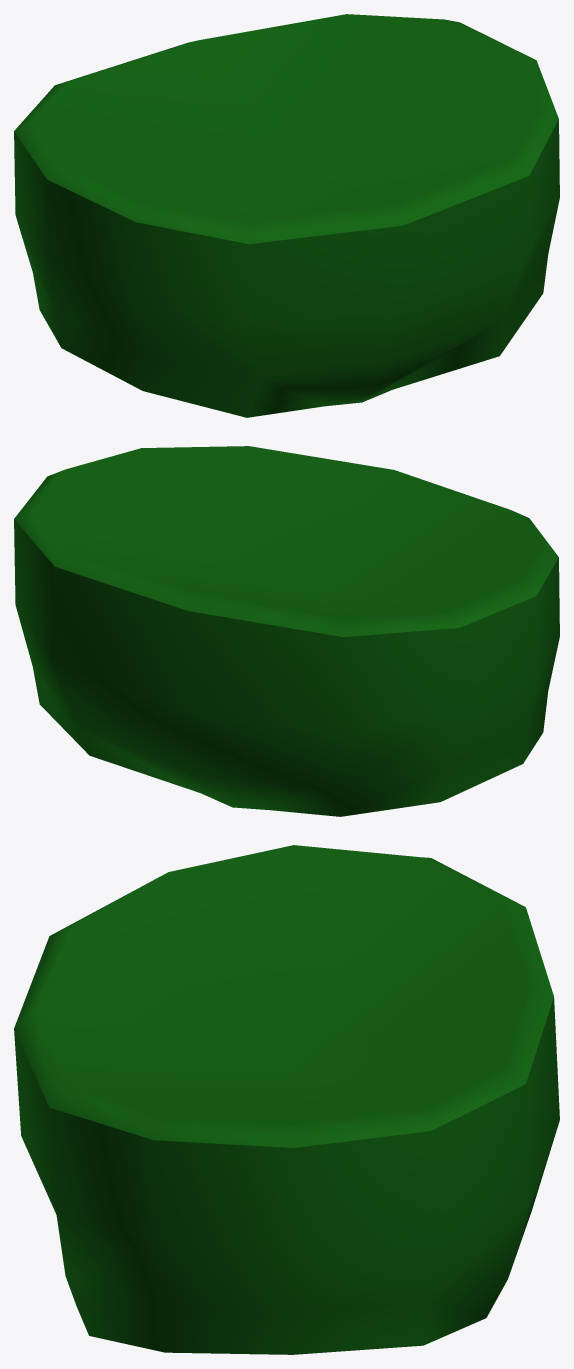
The model's file is Bottom_65.fbx.
3 renders of one model, top to bottom at view 1: azimuth 30°, elevation 25°; view 2: azimuth 150°, elevation 25°; view 3: azimuth 270°, elevation 25°, orthographic. The views are drawn at different scales.
Parts seen in each view (by area): view 1: Bottom_65; view 2: Bottom_65; view 3: Bottom_65.
Boxes of the visible parts, x1,y1,x2,y2 form: Bottom_65: (14, 14, 559, 417); Bottom_65: (14, 446, 559, 816); Bottom_65: (14, 845, 559, 1354).
Size of the model in its own units: 38.53 by 18.35 by 29.68.
